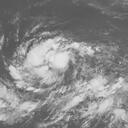cyclone: (6, 29, 97, 103)
